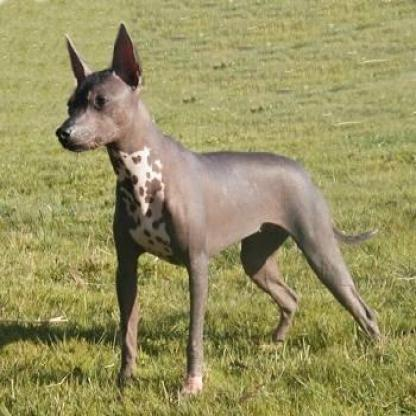Mexican_hairless: (54, 20, 379, 394)
